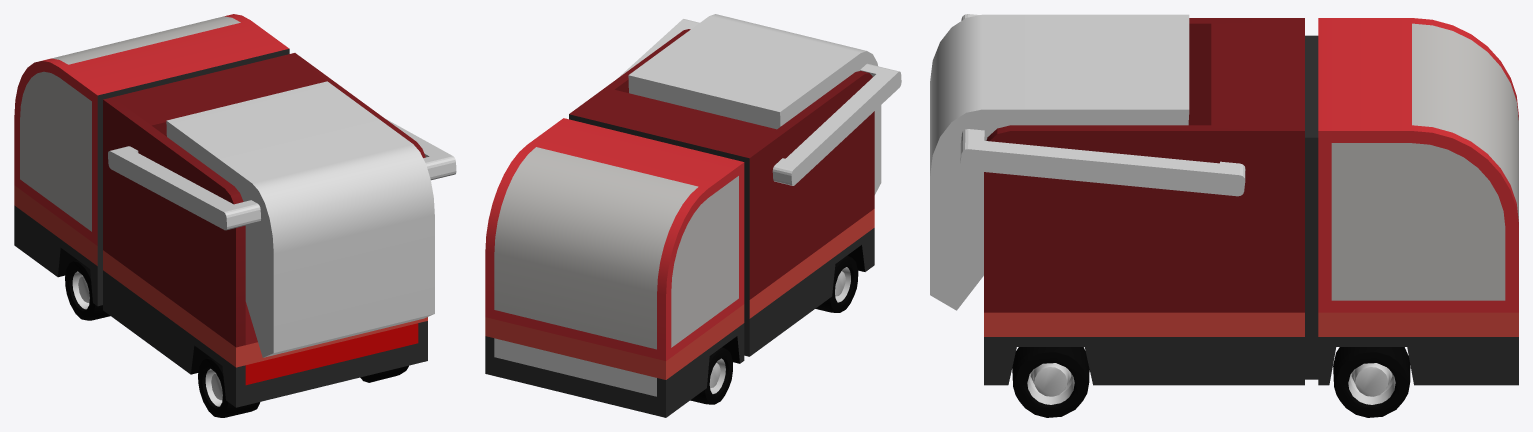
The model's file is SM_GarbageTrack_Red.fbx.
3 views of the same model, side by side, from view 1: azimuth 30°, elevation 25°; view 2: azimuth 150°, elevation 25°; view 3: azimuth 270°, elevation 25° (orthographic). The views are drawn at different scales.
Visible parts, largest first — view 1: BodyRed, Rear, WheelsRear, Wheels.Front; view 2: BodyRed, Rear, Wheels.Front, WheelsRear; view 3: BodyRed, Rear, Wheels.Front, WheelsRear.
Boxes of the visible parts, x1=… form: BodyRed: x1=14, y1=14, x2=427, y2=407; Rear: x1=108, y1=81, x2=456, y2=357; WheelsRear: x1=198, y1=357, x2=408, y2=417; Wheels.Front: x1=65, y1=259, x2=110, y2=320; BodyRed: x1=485, y1=29, x2=874, y2=417; Rear: x1=617, y1=14, x2=901, y2=194; Wheels.Front: x1=690, y1=347, x2=732, y2=404; WheelsRear: x1=815, y1=255, x2=858, y2=312; BodyRed: x1=984, y1=18, x2=1518, y2=385; Rear: x1=930, y1=14, x2=1245, y2=310; Wheels.Front: x1=1333, y1=347, x2=1410, y2=417; WheelsRear: x1=1012, y1=347, x2=1089, y2=417.
Size of the model in its own units: 241 by 251 by 440.
